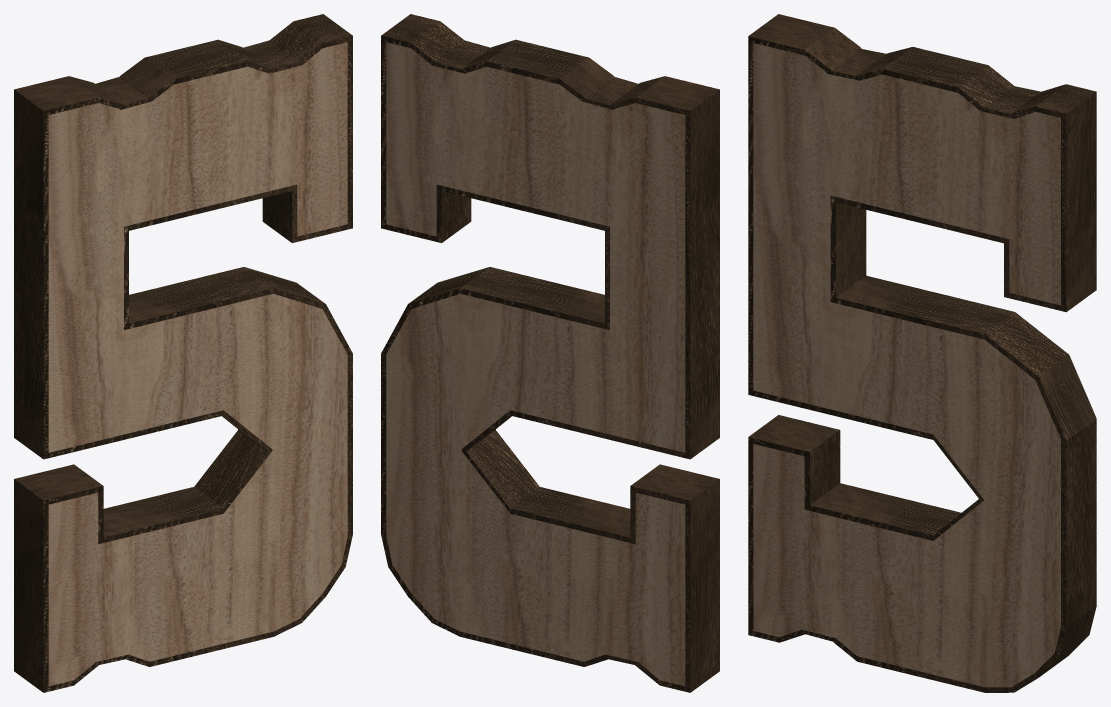
3 renders of one model, left to right at view 1: azimuth 30°, elevation 25°; view 2: azimuth 150°, elevation 25°; view 3: azimuth 330°, elevation 25°, orthographic. The views are drawn at different scales.
Parts seen in each view (by area): view 1: 5, 5_outline; view 2: 5, 5_outline; view 3: 5, 5_outline.
Part boxes in pixels (x1,y1,x2,y2): 5: (48,42,347,686); 5_outline: (14,14,352,692); 5: (386,42,685,686); 5_outline: (381,14,719,692); 5: (753,43,1060,687); 5_outline: (748,14,1096,692).
Size of the model in its own units: 60.5 by 109 by 10.
2 materials, 2 textured.
